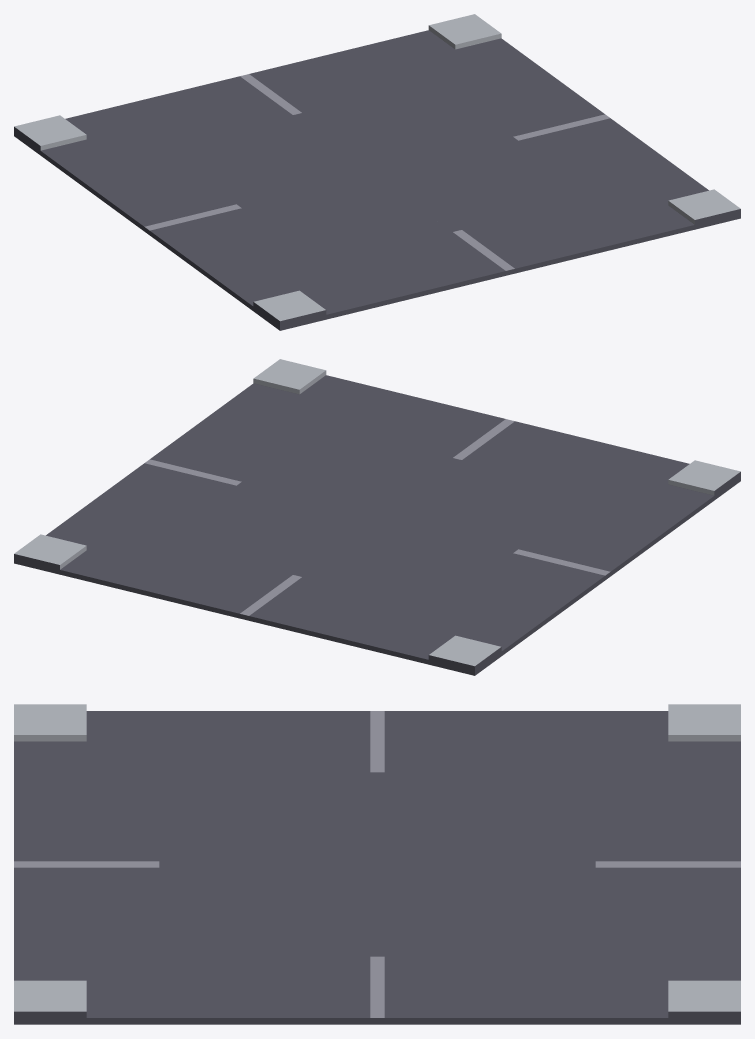
Rendered from road-cross.glb.
3 renders of one model, top to bottom at view 1: azimuth 30°, elevation 25°; view 2: azimuth 150°, elevation 25°; view 3: azimuth 270°, elevation 25°, orthographic. The views are drawn at different scales.
Visible parts, largest first — view 1: road-cross; view 2: road-cross; view 3: road-cross.
Boxes of the visible parts, x1,y1,x2,y2 form: road-cross: [14, 14, 740, 330]; road-cross: [14, 359, 740, 675]; road-cross: [14, 704, 740, 1024].
Bounding box in the file's own units: 1 × 0.02 × 1.
Materials: 1 (1 with a texture image).
